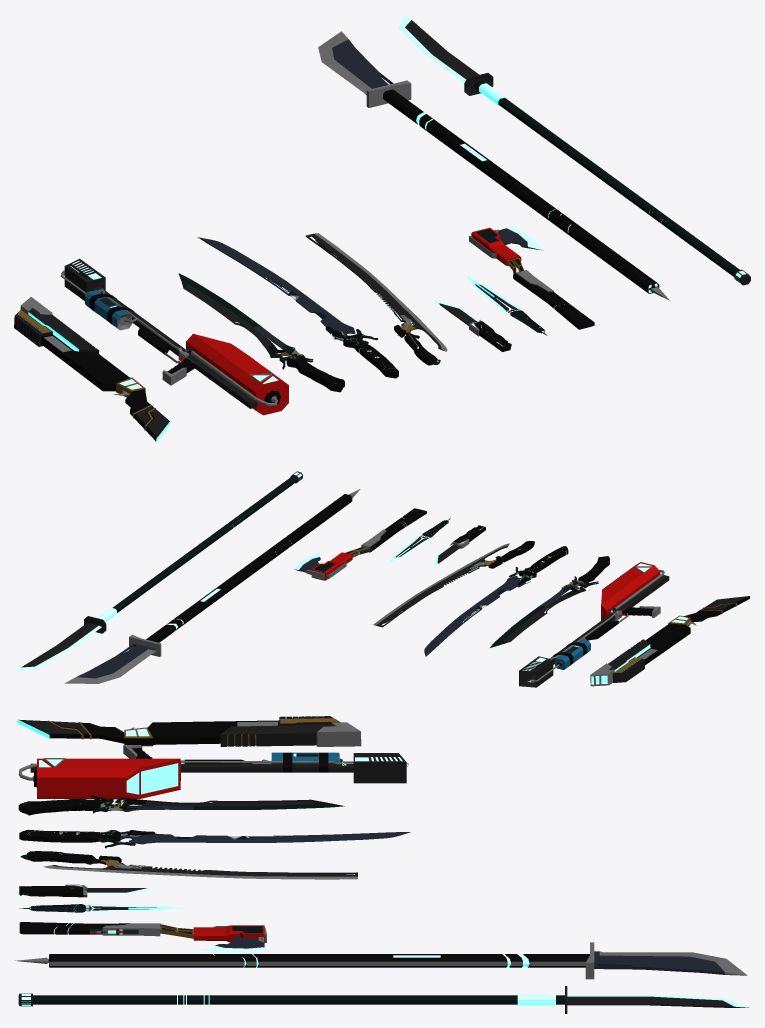
Rendered from Scy-fi Weapons2.fbx.
3 views of the same model, one above another, from view 1: azimuth 30°, elevation 25°; view 2: azimuth 150°, elevation 25°; view 3: azimuth 270°, elevation 25° (orthographic). The views are drawn at different scales.
Visible parts, largest first — view 1: Flamethrower 1, Guan Dao 1, Shot Gun 1, Naginta 1, Axe 1, Sword 2, Sword 1, Sword 3, Knife 1, Knife 2; view 2: Flamethrower 1, Guan Dao 1, Shot Gun 1, Naginta 1, Axe 1, Sword 2, Sword 1, Sword 3, Knife 1, Knife 2; view 3: Flamethrower 1, Guan Dao 1, Naginta 1, Shot Gun 1, Axe 1, Sword 2, Sword 1, Sword 3, Knife 1, Knife 2.
Part boxes in pixels (<box>): Flamethrower 1: <box>60,258,288,415</box>; Guan Dao 1: <box>318,31,669,300</box>; Shot Gun 1: <box>14,297,170,442</box>; Naginta 1: <box>397,14,750,285</box>; Axe 1: <box>469,227,594,329</box>; Sword 2: <box>197,237,398,378</box>; Sword 1: <box>178,273,344,392</box>; Sword 3: <box>305,233,447,365</box>; Knife 1: <box>434,300,511,351</box>; Knife 2: <box>467,277,547,335</box>; Flamethrower 1: <box>519,562,669,687</box>; Guan Dao 1: <box>64,489,360,683</box>; Shot Gun 1: <box>590,595,750,686</box>; Naginta 1: <box>14,471,302,672</box>; Axe 1: <box>293,508,426,580</box>; Sword 2: <box>424,546,568,656</box>; Sword 1: <box>490,556,609,647</box>; Sword 3: <box>373,541,534,627</box>; Knife 1: <box>433,525,485,566</box>; Knife 2: <box>389,518,450,563</box>; Flamethrower 1: <box>18,745,409,799</box>; Guan Dao 1: <box>15,942,747,979</box>; Naginta 1: <box>18,986,750,1013</box>; Shot Gun 1: <box>17,716,361,746</box>; Axe 1: <box>19,922,266,952</box>; Sword 2: <box>19,829,410,848</box>; Sword 1: <box>18,795,344,815</box>; Sword 3: <box>20,851,357,879</box>; Knife 1: <box>19,884,158,897</box>; Knife 2: <box>19,903,184,913</box>.
Bounding box in the file's own units: 195 × 10.95 × 201.
